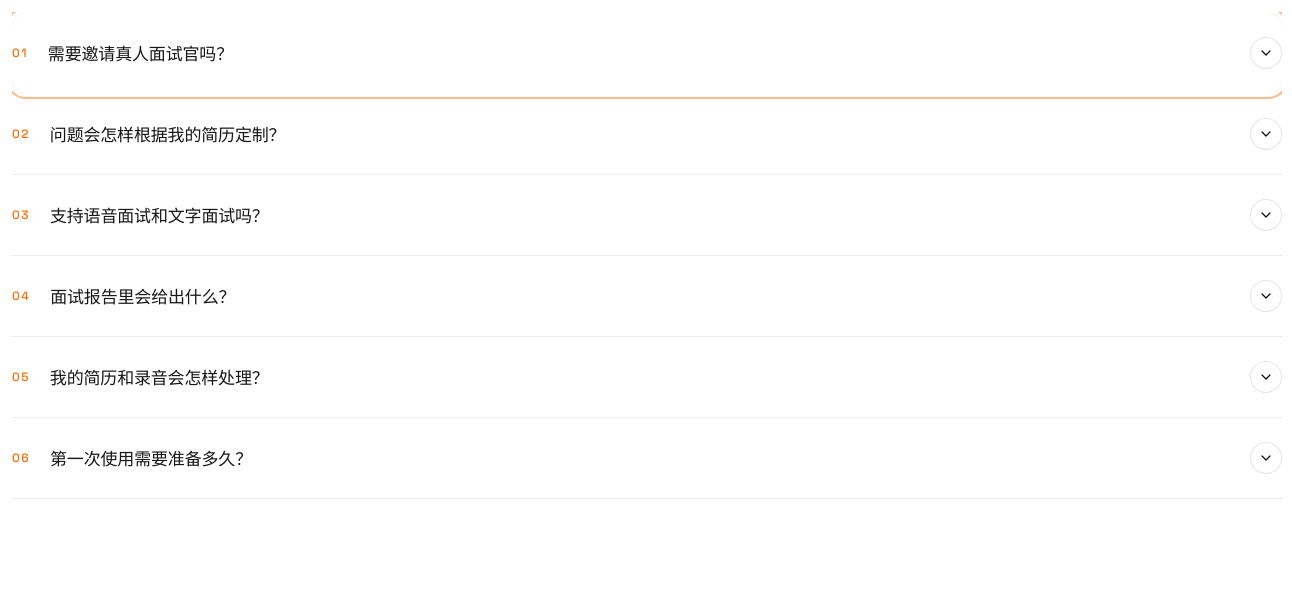
FaqAccordion › opens one answer with Enter and closes it when another opens
The width and height of the screenshot is (1292, 596).
Press Enter
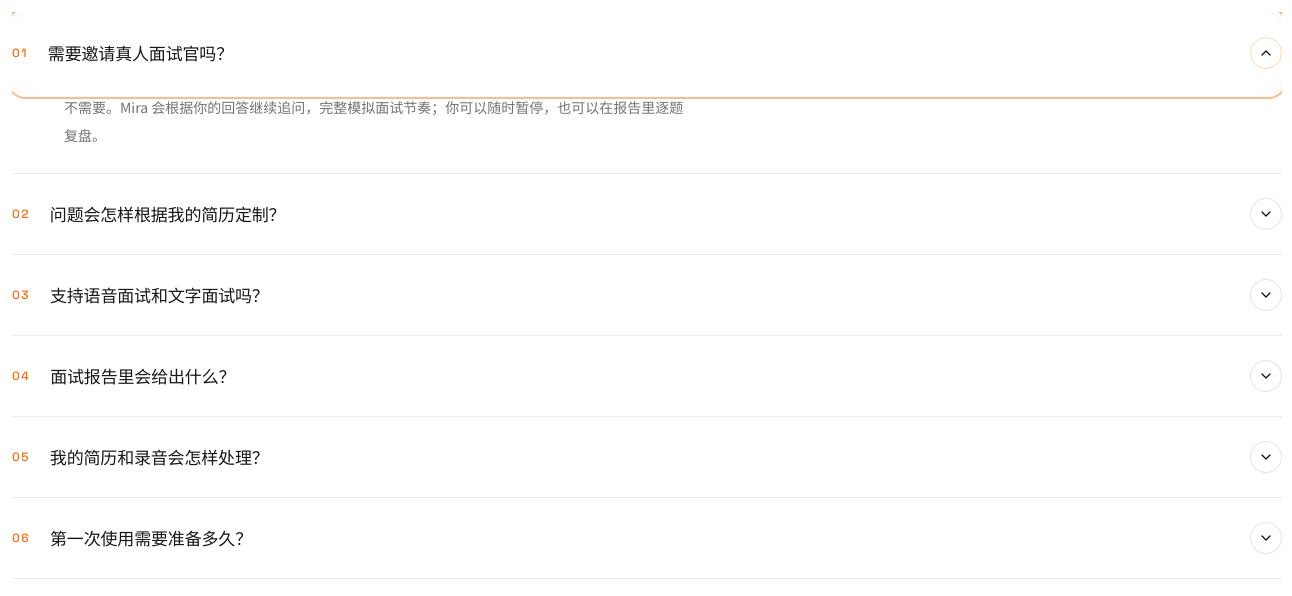
Expected: the button "01 需要邀请真人面试官吗？" is expanded, x1=12 y1=13 x2=1282 y2=93
Expected: the text "不需要。Mira 会根据你的回答继续追问，完整模拟面试节奏；你可以随时暂停，也可以在报告里逐题复盘。" is shown, x1=12 y1=93 x2=732 y2=173
Click the button "02 问题会怎样根据我的简历定制？": [168, 214] box x1=12 y1=174 x2=1282 y2=254
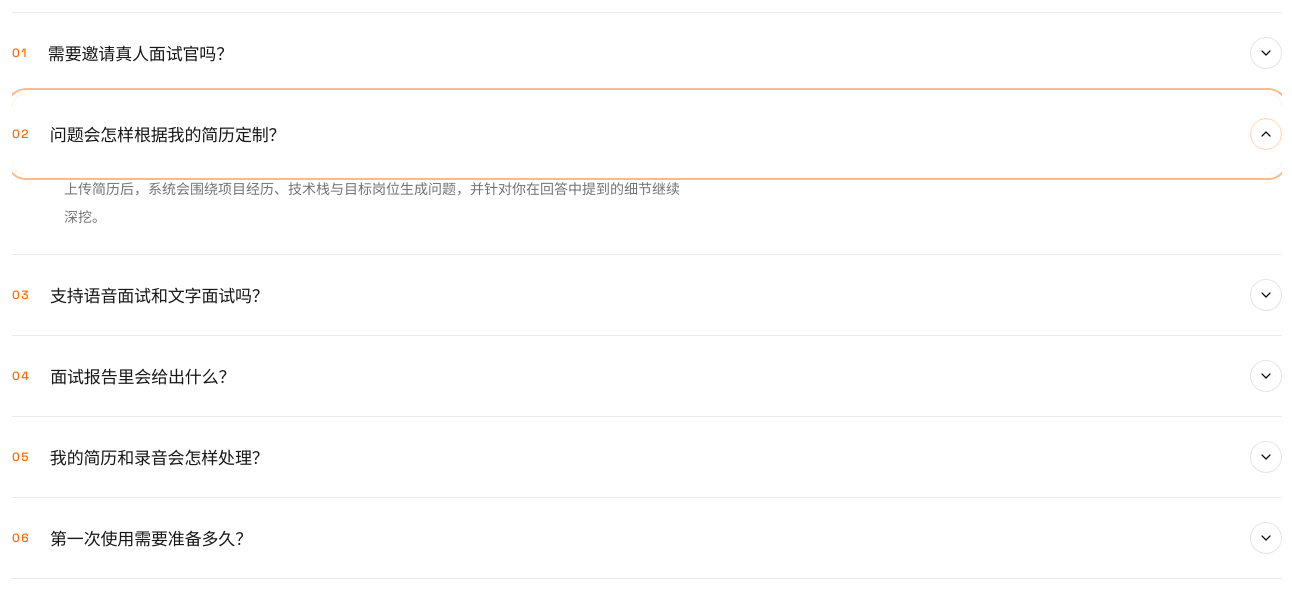
Expected: the button "02 问题会怎样根据我的简历定制？" is expanded, x1=12 y1=94 x2=1282 y2=174
Expected: the button "01 需要邀请真人面试官吗？" is collapsed, x1=12 y1=13 x2=1282 y2=93
